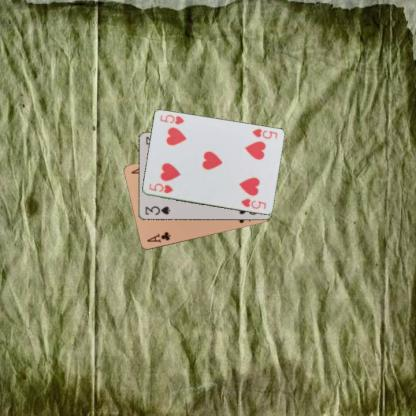3s: (143, 204, 171, 216)
5h: (249, 126, 278, 140), (146, 181, 174, 195)
Ac: (144, 229, 172, 244)
